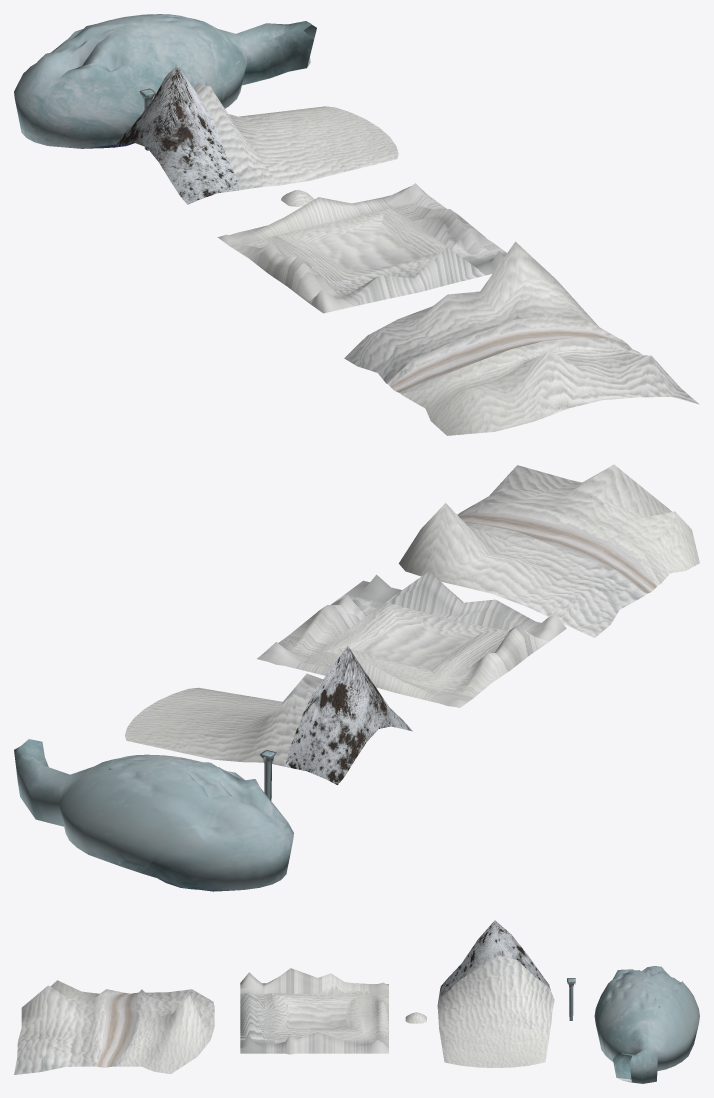
File: Environ.fbx
3 renders of one model, top to bottom at view 1: azimuth 30°, elevation 25°; view 2: azimuth 150°, elevation 25°; view 3: azimuth 270°, elevation 25°, orthographic. The views are drawn at different scales.
Parts seen in each view (by area): view 1: menuPlane, Level3Plane, Level1Plane, Level2Plane; view 2: menuPlane, Level3Plane, Level1Plane, Level2Plane; view 3: menuPlane, Level2Plane, Level1Plane, Level3Plane.
Boxes of the visible parts, box(x1,y1,x2,y2) form: menuPlane: box(344, 241, 699, 435); Level3Plane: box(14, 14, 316, 148); Level1Plane: box(217, 183, 506, 313); Level2Plane: box(113, 65, 398, 204); menuPlane: box(399, 464, 699, 637); Level3Plane: box(14, 739, 293, 891); Level1Plane: box(257, 571, 566, 707); Level2Plane: box(125, 646, 412, 784); menuPlane: box(14, 980, 214, 1074); Level2Plane: box(437, 920, 554, 1067); Level1Plane: box(240, 968, 388, 1054); Level3Plane: box(594, 966, 699, 1083).
Bounding box in the file's own units: 429 × 232 × 1277.
